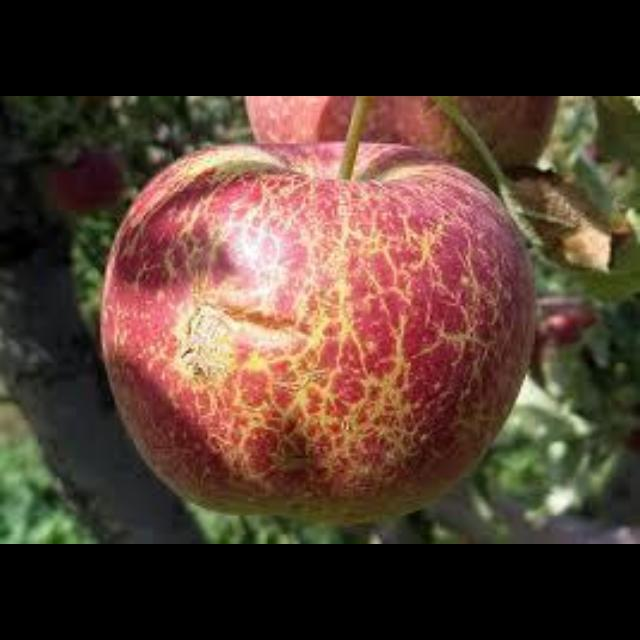apple: (103, 144, 533, 523)
scratch: (183, 299, 300, 384)
